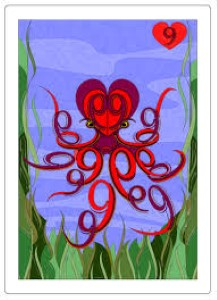NineOfHearts: (15, 16, 197, 279)
